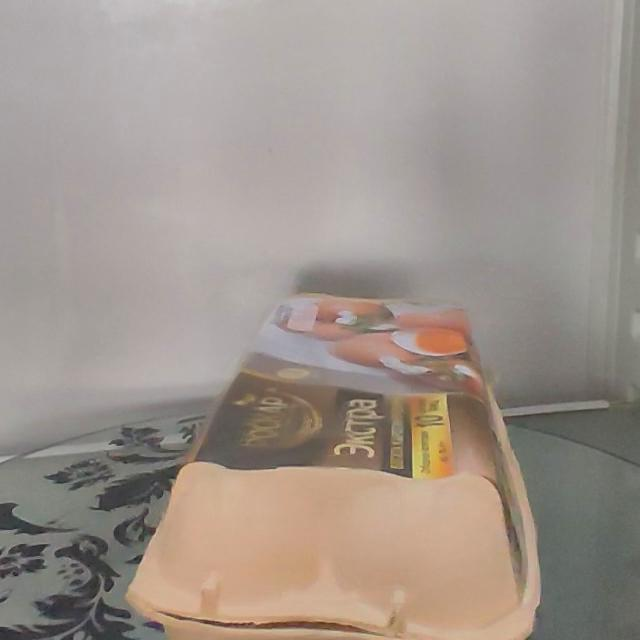egg: (136, 270, 544, 640)
